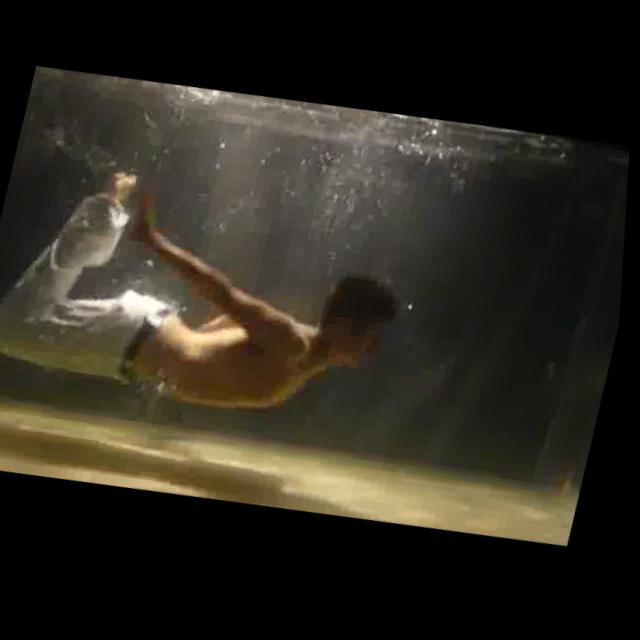human: (0, 135, 429, 450)
